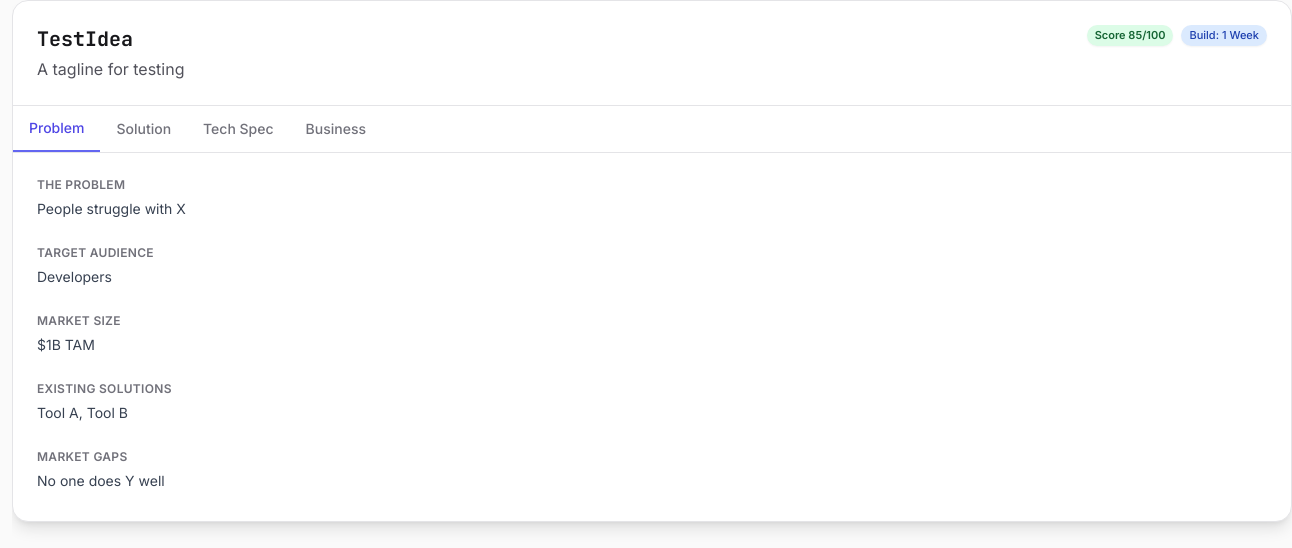
Test case: IdeaBriefCard › does not show gated overlay when gated=false
Click the tab "Solution".
click(144, 129)  # box [100,106,187,152]
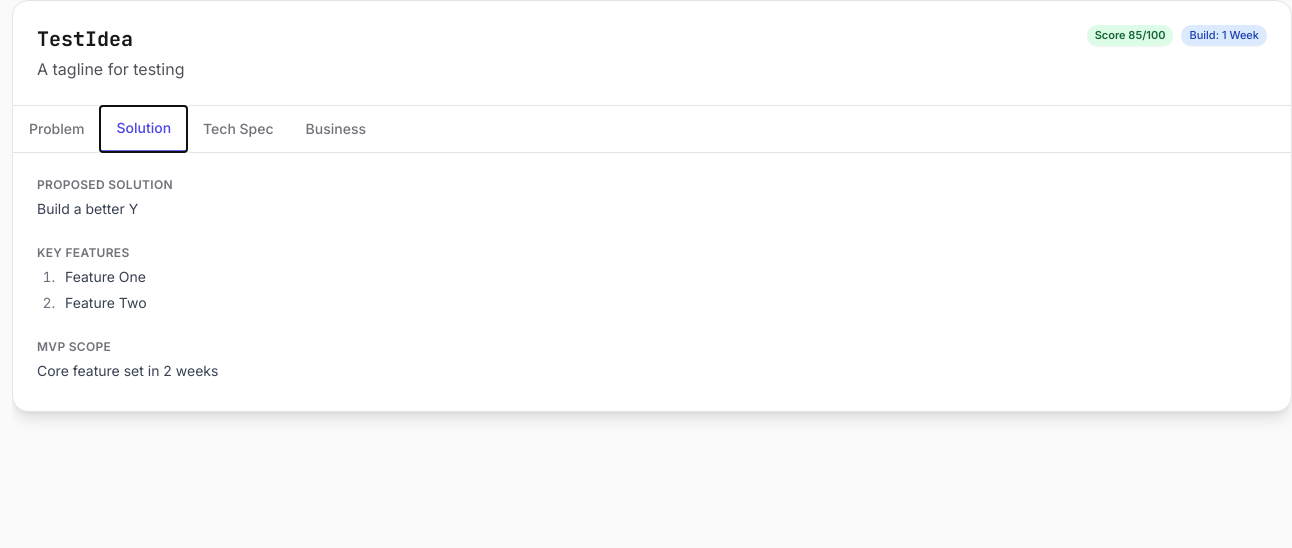
Result: the text "Build a better Y" is shown at [37,200,138,217]
